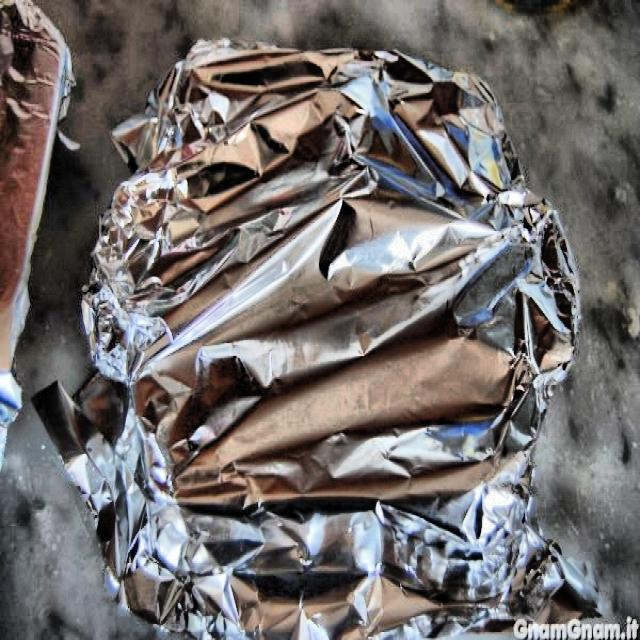Foil: (61, 23, 607, 640)
